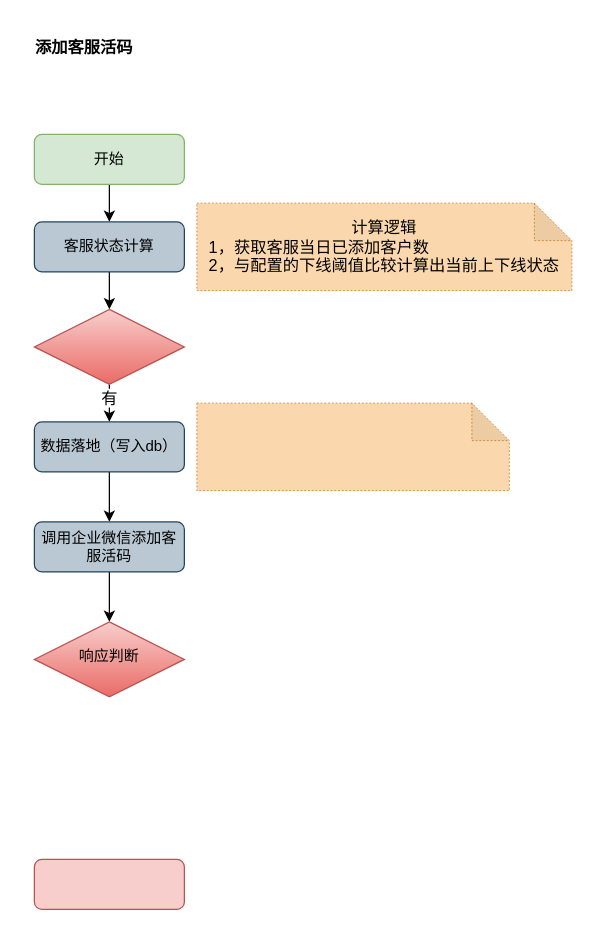
The diagram is 594 pixels wide and 931 high, and some of its shapes have lost their labels. Here are the shapes that lost their labels. From the top down, the box of each, then its label:
(33, 308, 184, 384): 是否有可上线的客服
(196, 402, 509, 490): 写入db时活码同步状态为初始化的状态
(33, 858, 184, 909): 结束
